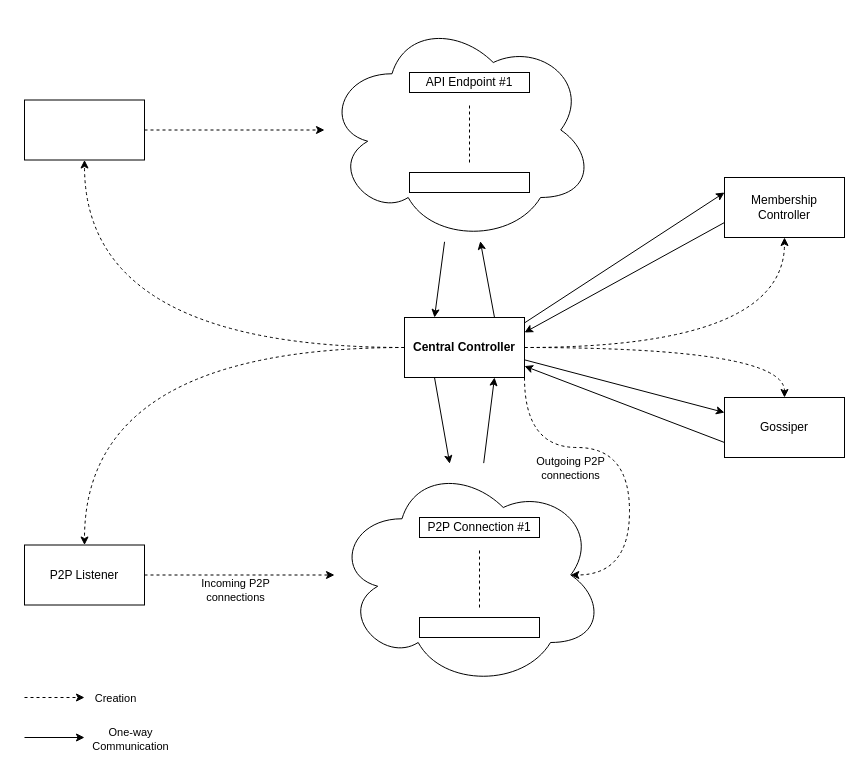
Some shapes in this 862 by 769 pixel diagram are drawn without their labels. The centre of each missing label's shape, as x and y in pixels:
"API Endpoint #n" belongs at pixel 469 182.
"API Listener" belongs at pixel 84 129.
"P2P connection #m" belongs at pixel 479 627.
